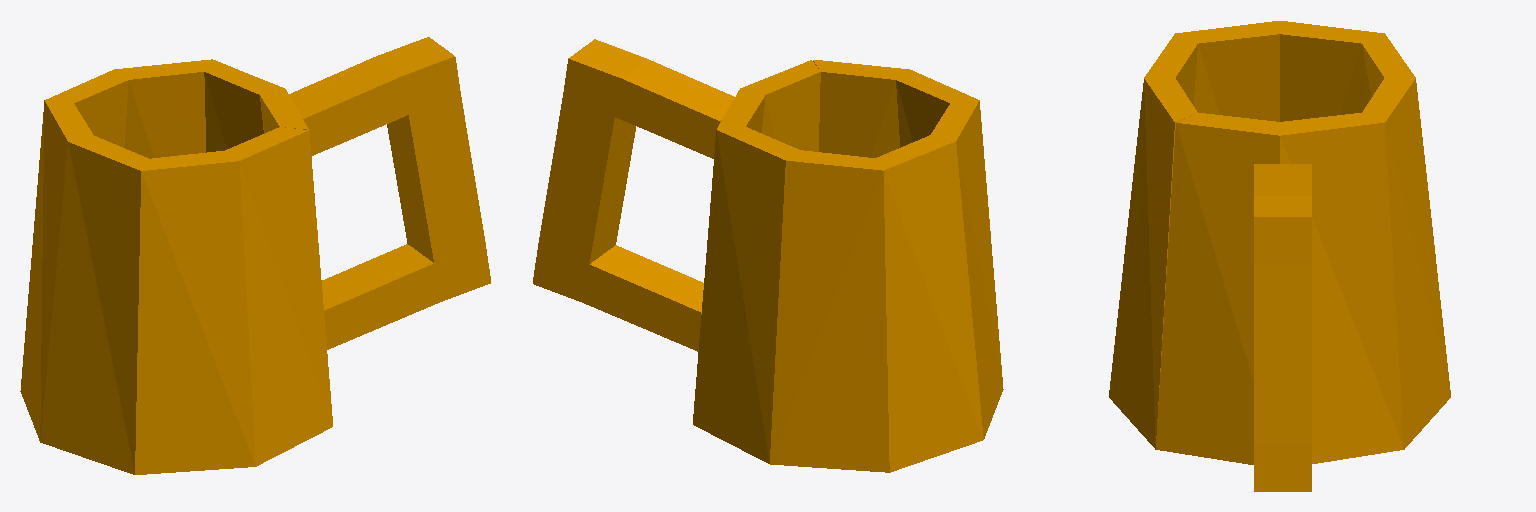
The robot description file, URDF, robot "beermug":
<?xml version="1.0" ?>
<robot name="beermug">
  <link name="body">
    <contact>
        <lateral_friction value="1"/>
    </contact>
    <inertial>
      <origin rpy="0 0 0" xyz="0 0 0"/>
       <mass value="0.2"/>
       <inertia ixx="0.019" ixy="0.00001" ixz="0.00001" iyy="0.019" iyz="0.00001" izz="0.019"/>
    </inertial>
    <visual>
      <origin rpy="0 0 0" xyz="0 0 0"/>
      <geometry>
	      <mesh filename="BeerMugVisual.obj" scale="1 1 1"/>
      </geometry>
    </visual>
    <collision>
      <origin rpy="0 0 0" xyz="0 0 0"/>
      <geometry>
        <mesh filename="BeerMugCollision.obj" scale="1 1 1"/>
      </geometry>
    </collision>
  </link>
</robot>

--- Render facts (derived) ---
3 views of the same robot in one strip: view 1: azimuth 30°, elevation 25°; view 2: azimuth 150°, elevation 25°; view 3: azimuth 270°, elevation 25° (orthographic).
Robot: beermug — 1 links, 0 joints (none); root link body; default pose: all joints at 0.
Visible links, largest first — view 1: body; view 2: body; view 3: body.
Link boxes in pixels (bbox=[...]): body: bbox=[20, 37, 490, 474]; body: bbox=[533, 39, 1003, 472]; body: bbox=[1109, 21, 1450, 491].
Bounding box of the posed robot: 0.1839 × 0.1144 × 0.1186 m (x, y, z).
1 mesh visuals loaded from 1 distinct referenced files (1 OBJ).
